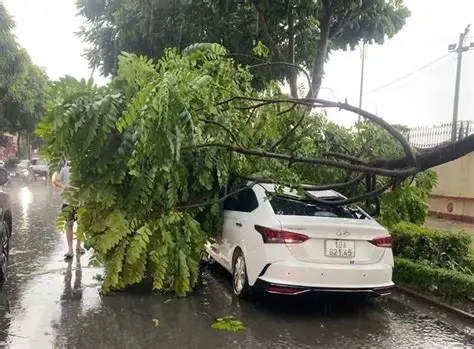ROAD_OBSTACLE: (70, 20, 474, 290)
